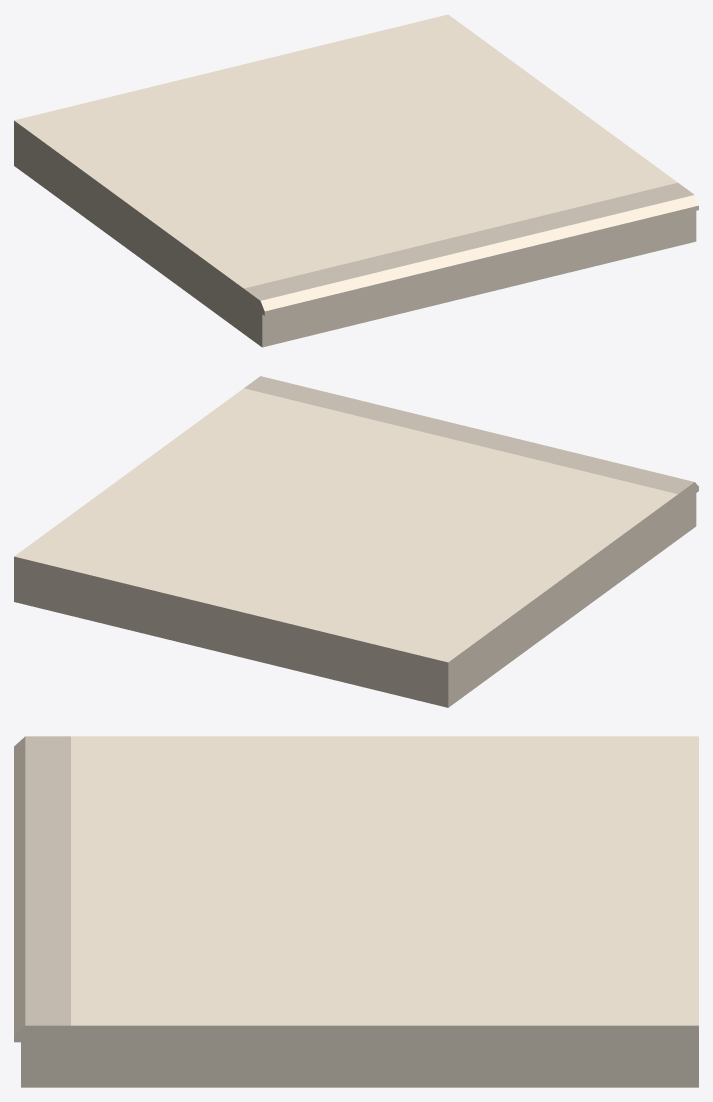
File: SM_VKI_Floor_Dais_300.fbx
3 views of the same model, one above another, from view 1: azimuth 30°, elevation 25°; view 2: azimuth 150°, elevation 25°; view 3: azimuth 270°, elevation 25° (orthographic). The views are drawn at different scales.
Parts seen in each view (by area): view 1: SM_VKI_Floor_Dais_300.001; view 2: SM_VKI_Floor_Dais_300.001; view 3: SM_VKI_Floor_Dais_300.001.
Boxes of the visible parts, x1,y1,x2,y2 form: SM_VKI_Floor_Dais_300.001: (14, 14, 698, 347); SM_VKI_Floor_Dais_300.001: (14, 376, 698, 707); SM_VKI_Floor_Dais_300.001: (14, 736, 698, 1087).
Size of the model in its own units: 3 by 0.3 by 3.
